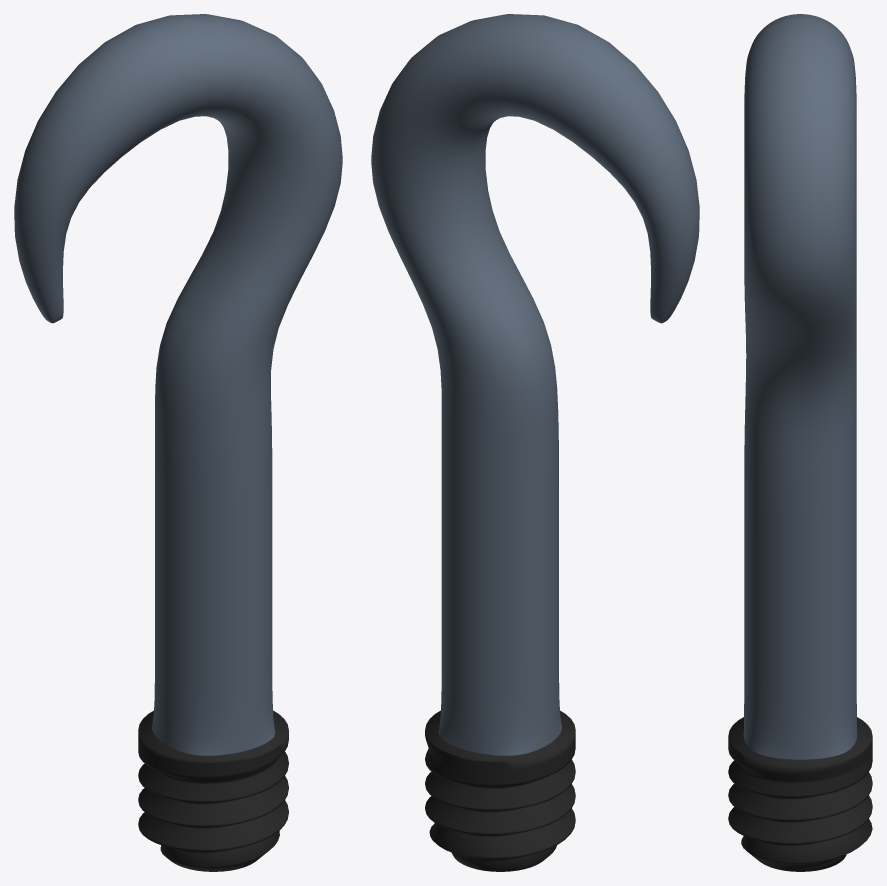
File: grapplePoint.fbx
3 views of the same model, side by side, from view 1: azimuth 30°, elevation 25°; view 2: azimuth 150°, elevation 25°; view 3: azimuth 270°, elevation 25° (orthographic). The views are drawn at different scales.
Parts seen in each view (by area): view 1: Bolt; view 2: Bolt; view 3: Bolt.
Boxes of the visible parts, x1,y1,x2,y2 form: Bolt: [14, 14, 342, 871]; Bolt: [371, 14, 699, 871]; Bolt: [728, 14, 872, 871].
Bounding box in the file's own units: 591 × 1502 × 244.
